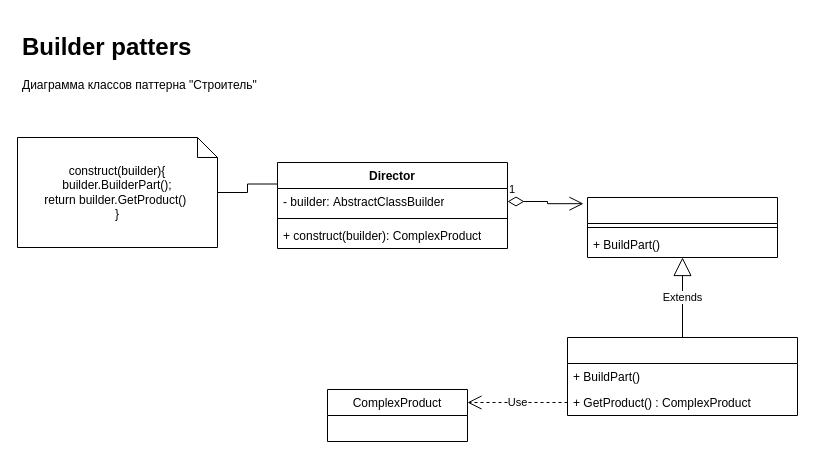
Some shapes in this 815 by 459 pixel diagram are drawn without their labels. The shapes that lost their labels are listed below. From the top down, each one's box as (x1, y1, x2, y2) in pixels, then its label:
(586, 196, 778, 258): AbstractClassBuilder
(566, 336, 798, 416): ConcreteClassBuilder
